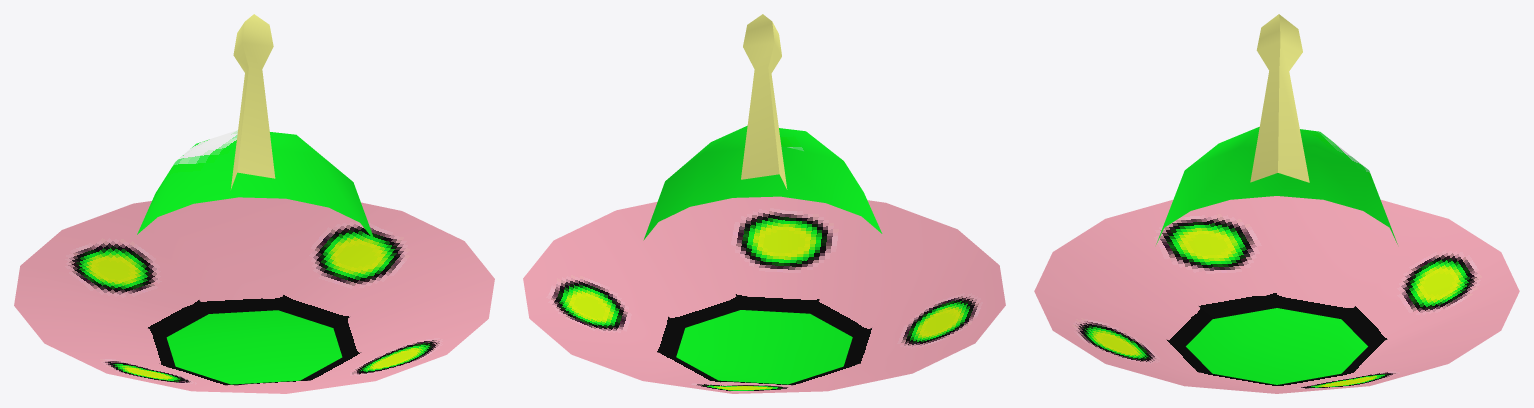
The model's file is ps2_save-icons_undertheskin.glb.
The picture shows the model from 3 angles, left to right: view 1: azimuth 30°, elevation 25°; view 2: azimuth 150°, elevation 25°; view 3: azimuth 270°, elevation 25°; orthographic projection.
Parts seen in each view (by area): view 1: Disp.ico; view 2: Disp.ico; view 3: Disp.ico.
Part boxes in pixels (box(x1,y1,x2,y2)): Disp.ico: box(14, 14, 494, 393); Disp.ico: box(523, 14, 1005, 393); Disp.ico: box(1034, 14, 1519, 393).
Size of the model in its own units: 4.79 by 3.62 by 4.79.
1 material, 1 textured.
